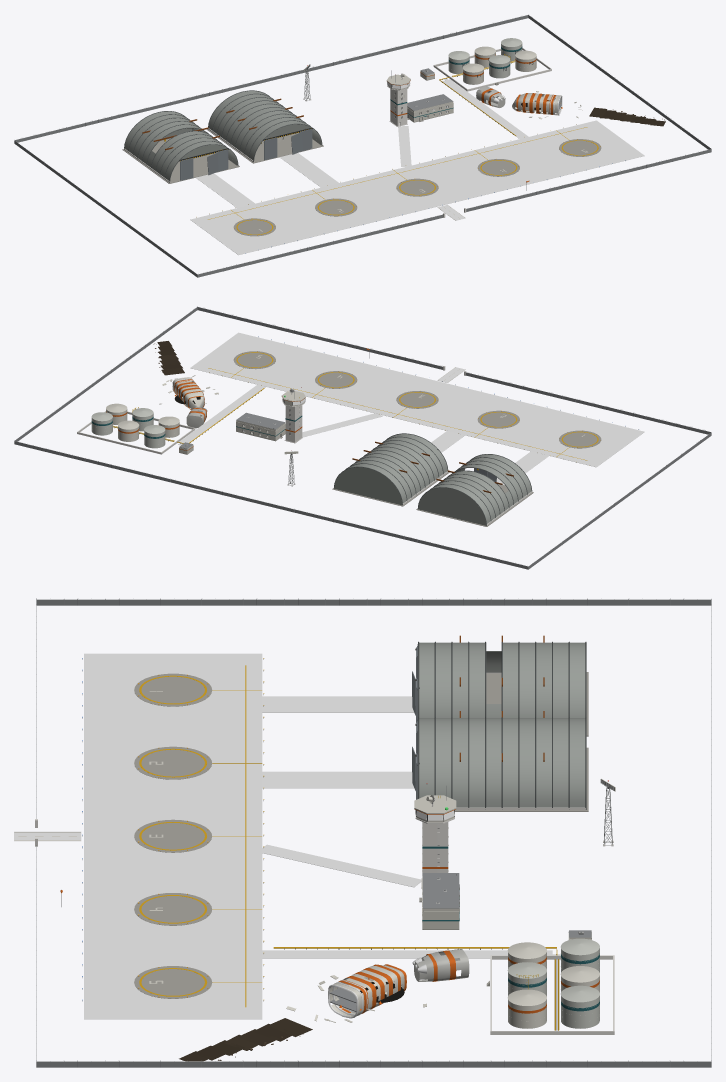
Rendered from landing-field.glb.
3 views of the same model, one above another, from view 1: azimuth 30°, elevation 25°; view 2: azimuth 150°, elevation 25°; view 3: azimuth 270°, elevation 25° (orthographic). The views are drawn at different scales.
Visible parts, largest first — view 1: C0_-2_lod0, C-2_0_lod0, C-1_0_lod0, C1_0_lod0, C0_1_lod0, C2_-1_lod0, C-2_-2_lod0, C1_-2_lod0, C0_0_lod0, C2_0_lod0, C-2_1_lod0, C2_1_lod0 (+8 smaller); view 2: C0_-2_lod0, C-2_0_lod0, C-1_0_lod0, C-1_1_lod0, C-2_1_lod0, C1_0_lod0, C0_1_lod0, C1_-2_lod0, C-2_-2_lod0, C2_-1_lod0, C0_0_lod0, C2_1_lod0 (+7 smaller); view 3: C0_-2_lod0, C-1_0_lod0, C-2_0_lod0, C1_0_lod0, C2_-1_lod0, C3_0_lod0, C-4_0_lod0, C2_1_lod0, C-1_1_lod0, C2_0_lod0, C-1_-1_lod0, C-2_1_lod0 (+8 smaller).
Boxes of the visible parts, bbox=[...] form: C0_-2_lod0: bbox=[190, 120, 644, 255]; C-2_0_lod0: bbox=[122, 118, 266, 183]; C-1_0_lod0: bbox=[207, 97, 323, 163]; C1_0_lod0: bbox=[407, 63, 528, 138]; C0_1_lod0: bbox=[15, 15, 528, 142]; C2_-1_lod0: bbox=[512, 93, 665, 139]; C-2_-2_lod0: bbox=[197, 208, 443, 277]; C1_-2_lod0: bbox=[466, 139, 711, 211]; C0_0_lod0: bbox=[386, 70, 441, 126]; C2_0_lod0: bbox=[467, 50, 551, 110]; C-2_1_lod0: bbox=[111, 99, 198, 154]; C2_1_lod0: bbox=[435, 18, 551, 76]; C0_-2_lod0: bbox=[190, 332, 644, 467]; C-2_0_lod0: bbox=[403, 454, 533, 526]; C-1_0_lod0: bbox=[332, 433, 449, 506]; C-1_1_lod0: bbox=[294, 460, 411, 524]; C-2_1_lod0: bbox=[404, 480, 495, 545]; C1_0_lod0: bbox=[158, 384, 285, 443]; C0_1_lod0: bbox=[14, 441, 528, 569]; C1_-2_lod0: bbox=[197, 307, 442, 378]; C-2_-2_lod0: bbox=[465, 372, 710, 448]; C2_-1_lod0: bbox=[155, 341, 238, 409]; C0_0_lod0: bbox=[258, 387, 305, 443]; C2_1_lod0: bbox=[46, 411, 174, 464]; C0_-2_lod0: bbox=[14, 653, 262, 1019]; C-1_0_lod0: bbox=[412, 711, 588, 811]; C-2_0_lod0: bbox=[412, 635, 588, 736]; C1_0_lod0: bbox=[262, 873, 557, 986]; C2_-1_lod0: bbox=[179, 964, 406, 1061]; C3_0_lod0: bbox=[36, 1060, 711, 1067]; C-4_0_lod0: bbox=[36, 598, 711, 605]; C2_1_lod0: bbox=[490, 955, 711, 1055]; C-1_1_lod0: bbox=[552, 717, 711, 827]; C2_0_lod0: bbox=[360, 955, 546, 1034]; C-1_-1_lod0: bbox=[207, 763, 413, 830]; C-2_1_lod0: bbox=[552, 641, 711, 751].
Size of what is drawn, in the model's own units: 392 by 42.05 by 250.
